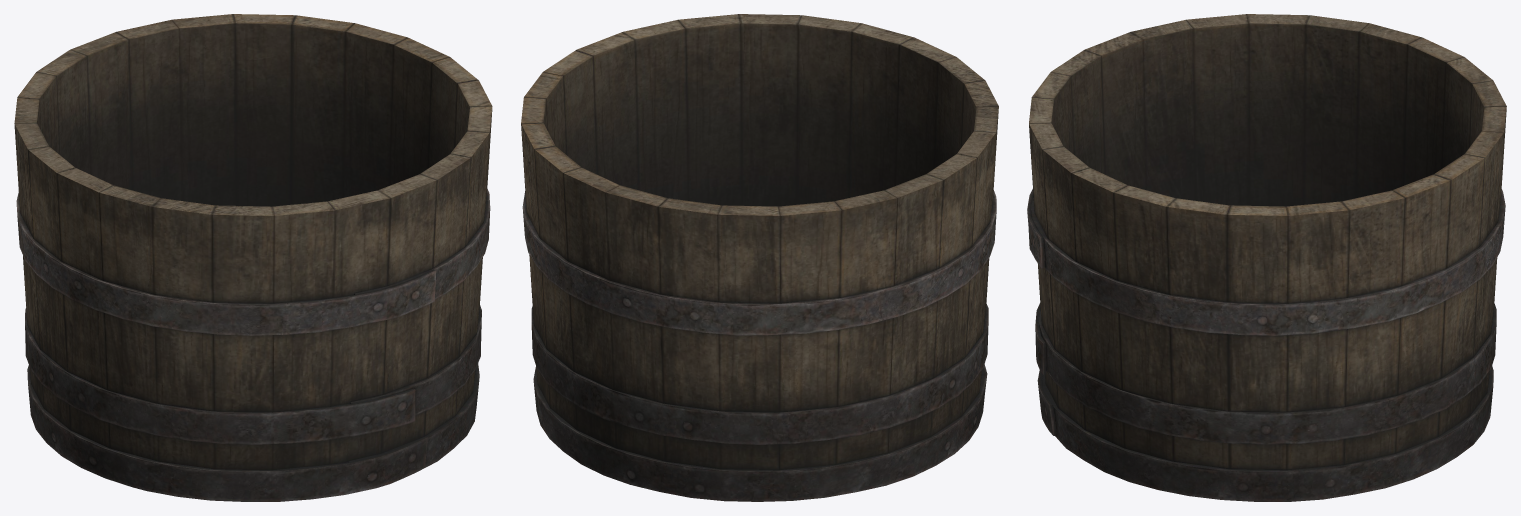
Rendered from bucket.glb.
3 views of the same model, side by side, from view 1: azimuth 30°, elevation 25°; view 2: azimuth 150°, elevation 25°; view 3: azimuth 270°, elevation 25° (orthographic).
Parts seen in each view (by area): view 1: bucket; view 2: bucket; view 3: bucket.
Part boxes in pixels (x1,y1,x2,y2): bucket: (14,14,492,501); bucket: (521,14,998,501); bucket: (1027,14,1506,501).
Bounding box in the file's own units: 0.9963 × 0.6741 × 1.
Materials: 1 (1 with a texture image).
